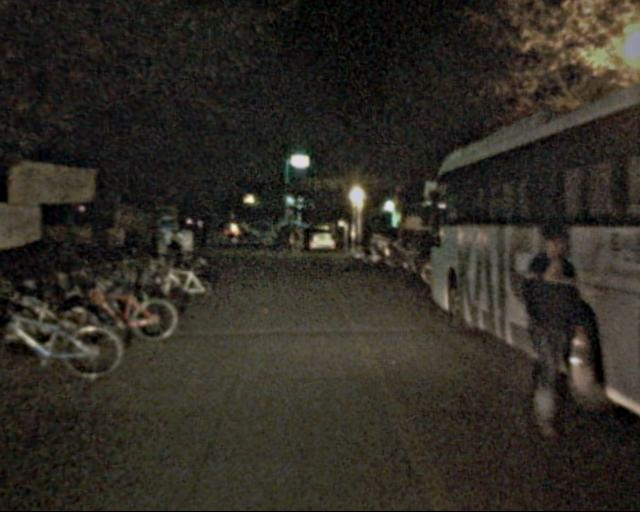person: (504, 216, 588, 444), (171, 220, 195, 279)
